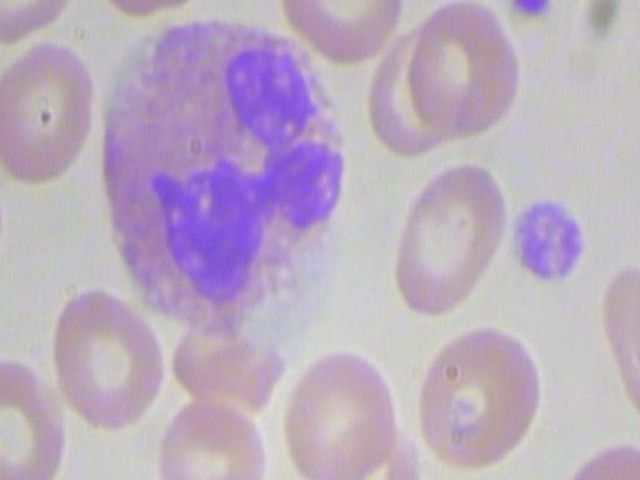Platelets: (505, 191, 587, 289), (503, 0, 559, 25)
RBC: (378, 150, 516, 319), (411, 327, 545, 473), (0, 31, 101, 204), (50, 284, 167, 432), (406, 0, 524, 138), (283, 341, 399, 480), (158, 377, 273, 480), (272, 0, 409, 74), (0, 352, 64, 480), (539, 433, 640, 480), (0, 0, 78, 45), (77, 0, 224, 15)
WBC: (83, 0, 365, 326)
